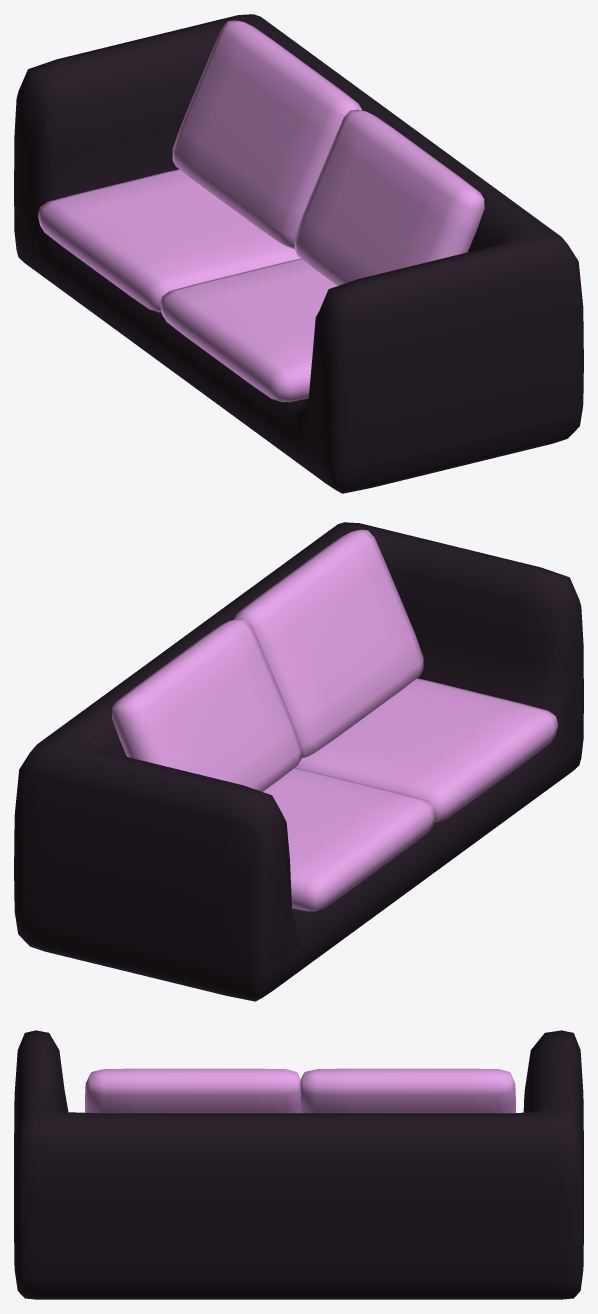
File: Couch.fbx
3 views of the same model, one above another, from view 1: azimuth 30°, elevation 25°; view 2: azimuth 150°, elevation 25°; view 3: azimuth 270°, elevation 25° (orthographic). The views are drawn at different scales.
Parts seen in each view (by area): view 1: Couch; view 2: Couch; view 3: Couch.
Part boxes in pixels (left/top/right/bottom): Couch: left=14, top=14, right=583, bottom=493; Couch: left=14, top=522, right=583, bottom=1001; Couch: left=14, top=1030, right=583, bottom=1299.
Size of the model in its own units: 251 by 208 by 524.
